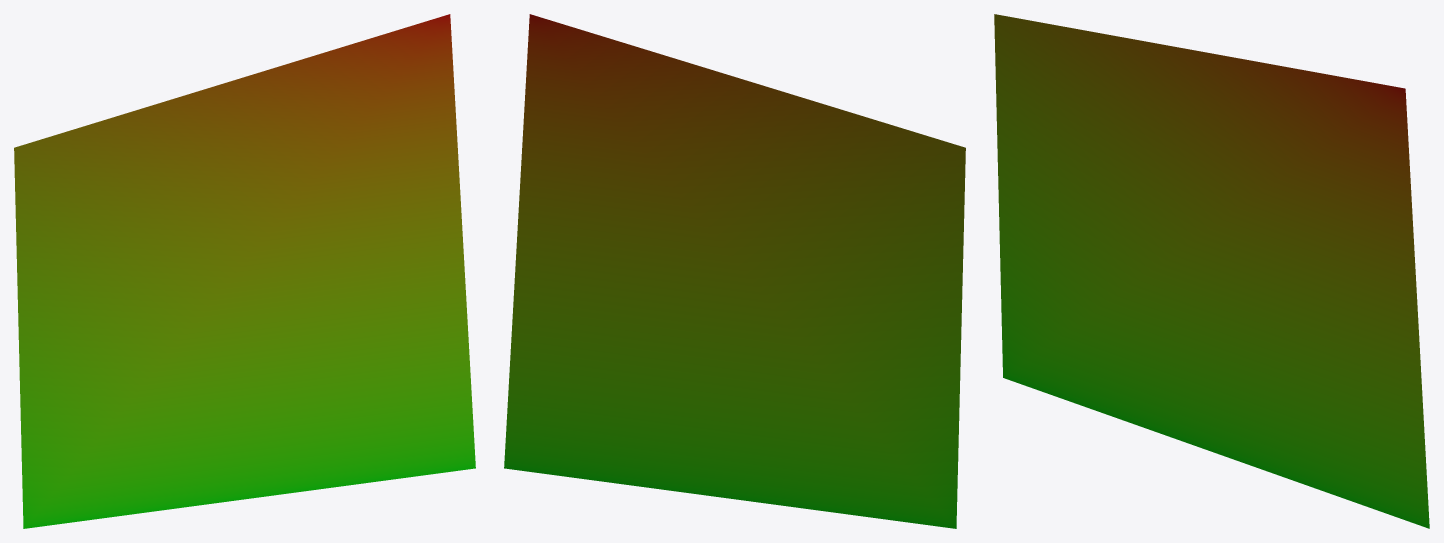
The model's file is Seaweed_LOD3_Var9_sdpjN.fbx.
3 views of the same model, side by side, from view 1: azimuth 30°, elevation 25°; view 2: azimuth 150°, elevation 25°; view 3: azimuth 330°, elevation 25° (orthographic). The views are drawn at different scales.
Parts seen in each view (by area): view 1: _6040_Var9_LOD3; view 2: _6040_Var9_LOD3; view 3: _6040_Var9_LOD3.
Boxes of the visible parts, x1=… form: _6040_Var9_LOD3: x1=14, y1=14, x2=475, y2=528; _6040_Var9_LOD3: x1=504, y1=14, x2=965, y2=528; _6040_Var9_LOD3: x1=994, y1=14, x2=1429, y2=528.
Size of the model in its own units: 12.75 by 12.16 by 8.34e-07.
